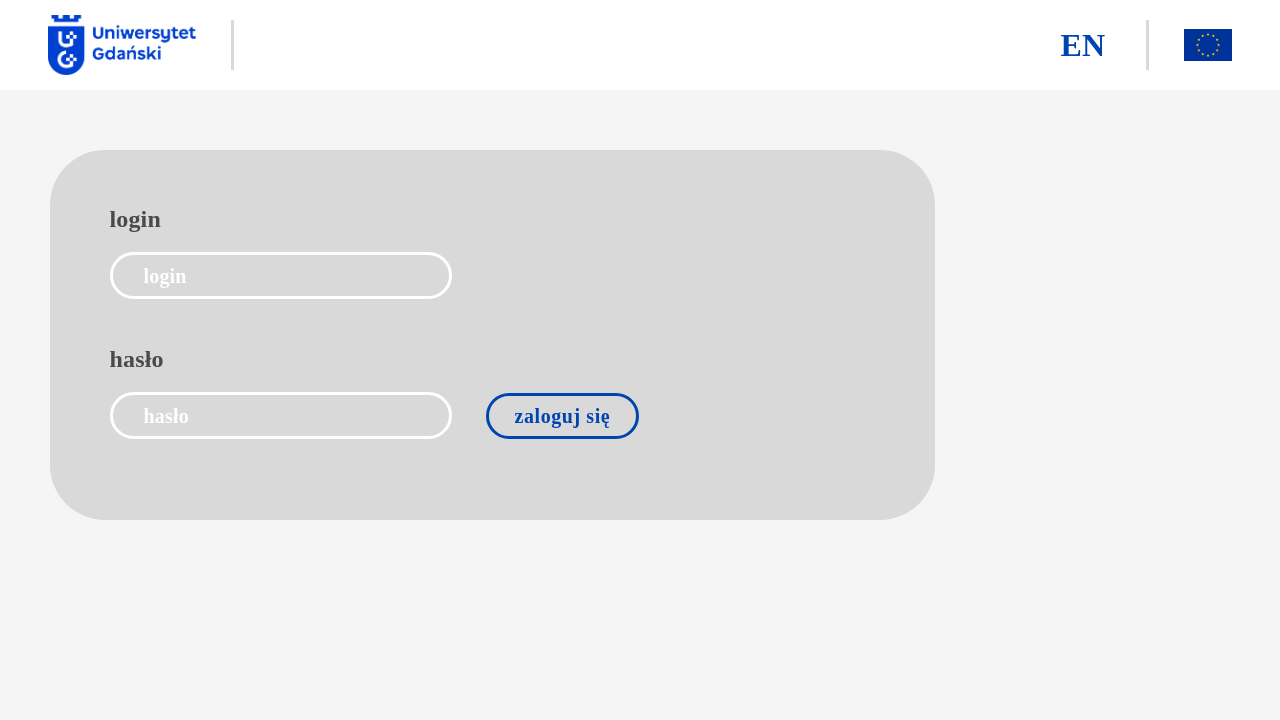
Test: LoginPage.cy.tsx › Render Header EN
Expected: the element with test id "header" is shown, 0,0 -> 1279,90
Expected: the element with test id "header-left" is shown, 48,15 -> 234,75
Click the button with test id "language-change" at (1084,46), box 1055,25 -> 1112,66
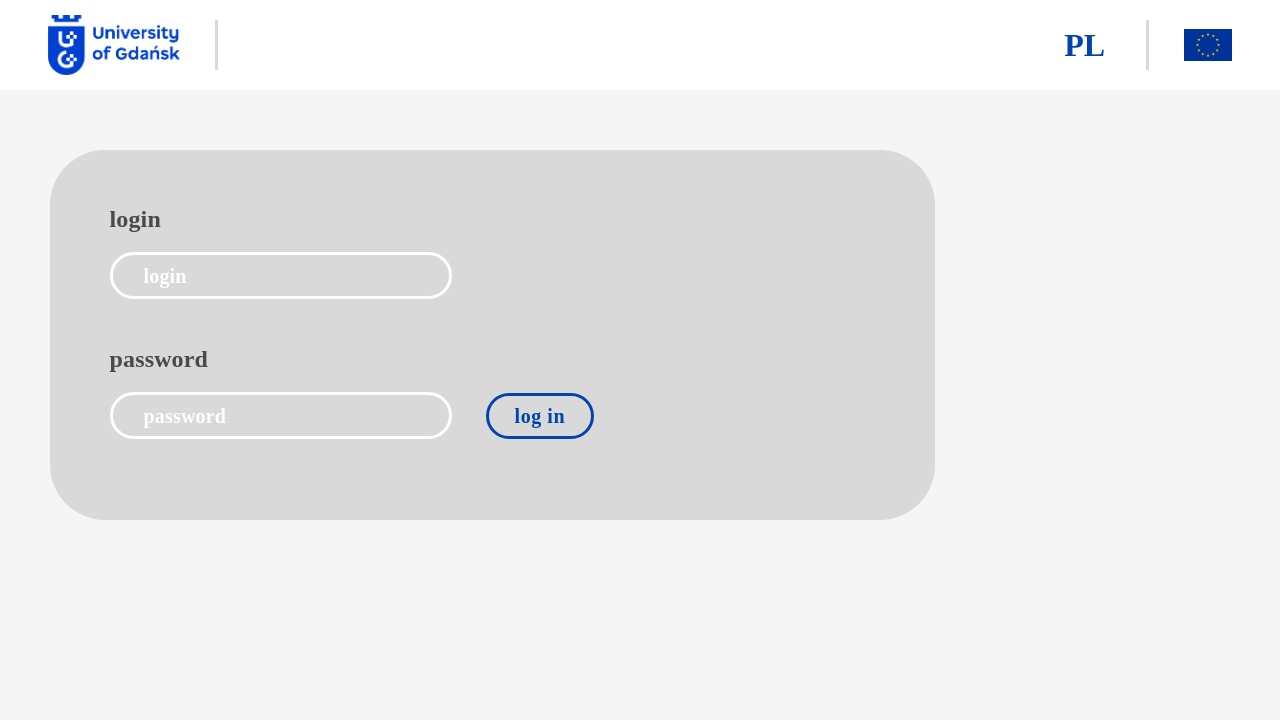
Now the button with test id "language-change" reads "PL", box 1058,25 -> 1111,66
